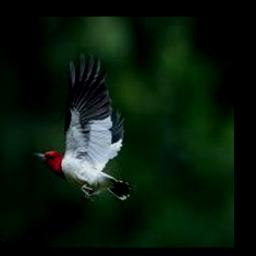Woodpecker: (34, 52, 135, 201)
